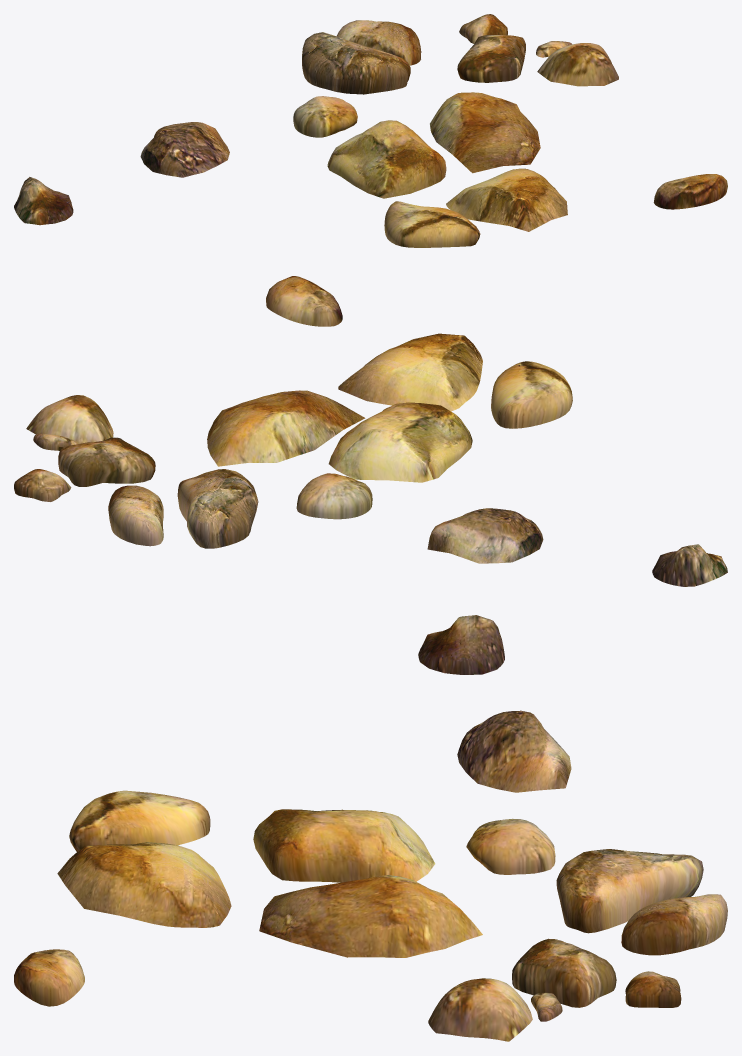
The model's file is Rocks.fbx.
3 renders of one model, top to bottom at view 1: azimuth 30°, elevation 25°; view 2: azimuth 150°, elevation 25°; view 3: azimuth 270°, elevation 25°, orthographic. The views are drawn at different scales.
Visible parts, largest first — view 1: Rocks; view 2: Rocks; view 3: Rocks.
Part boxes in pixels (bbox=[...]): Rocks: bbox=[14, 14, 727, 247]; Rocks: bbox=[14, 276, 727, 586]; Rocks: bbox=[14, 615, 727, 1041].
Bounding box in the file's own units: 3717 × 219 × 2788.
